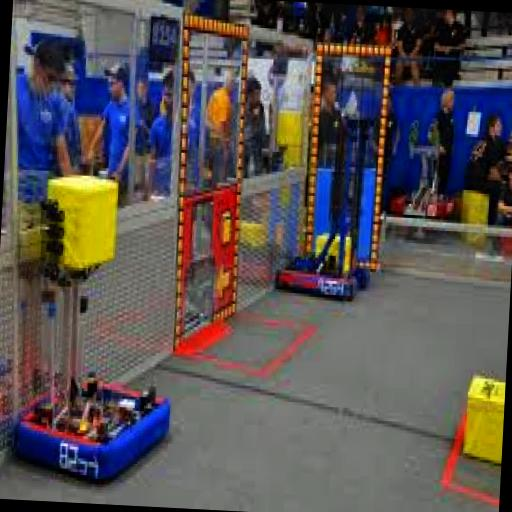robot: (6, 169, 184, 477), (271, 104, 379, 300)
